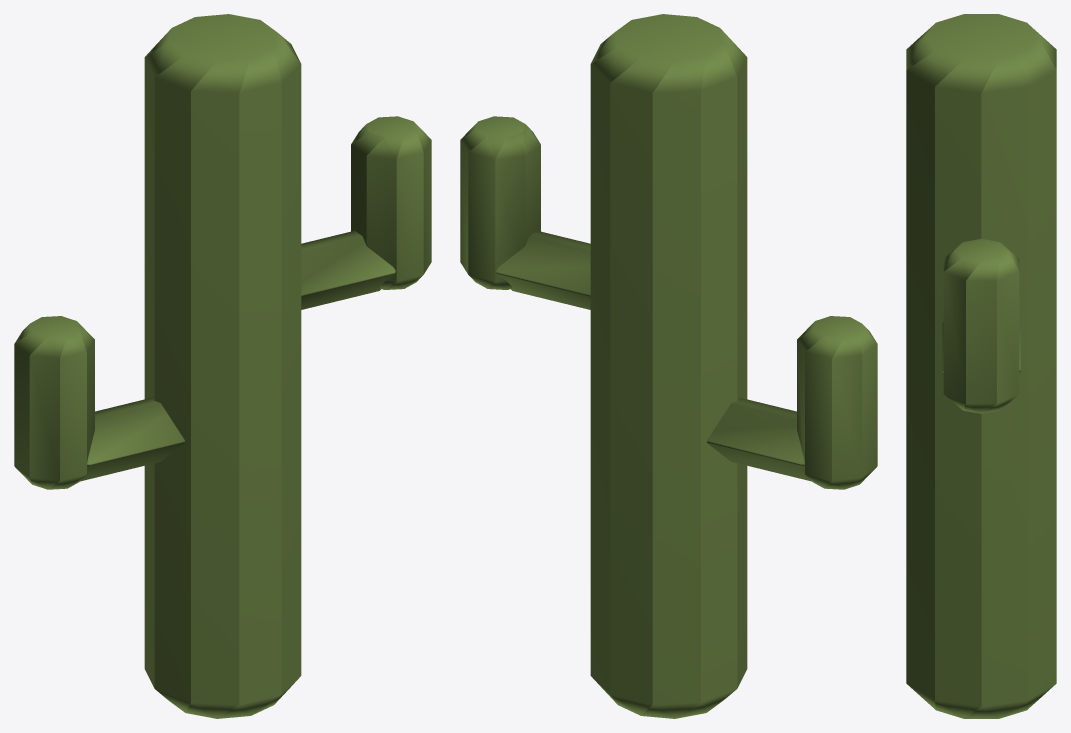
Rendered from cactus.glb.
3 renders of one model, left to right at view 1: azimuth 30°, elevation 25°; view 2: azimuth 150°, elevation 25°; view 3: azimuth 270°, elevation 25°, orthographic.
Visible parts, largest first — view 1: cactus; view 2: cactus; view 3: cactus.
Boxes of the visible parts, x1=… form: cactus: x1=14, y1=14, x2=431, y2=718; cactus: x1=460, y1=14, x2=877, y2=718; cactus: x1=906, y1=14, x2=1056, y2=718.
Bounding box in the file's own units: 1.79 × 2.8 × 0.5789.
